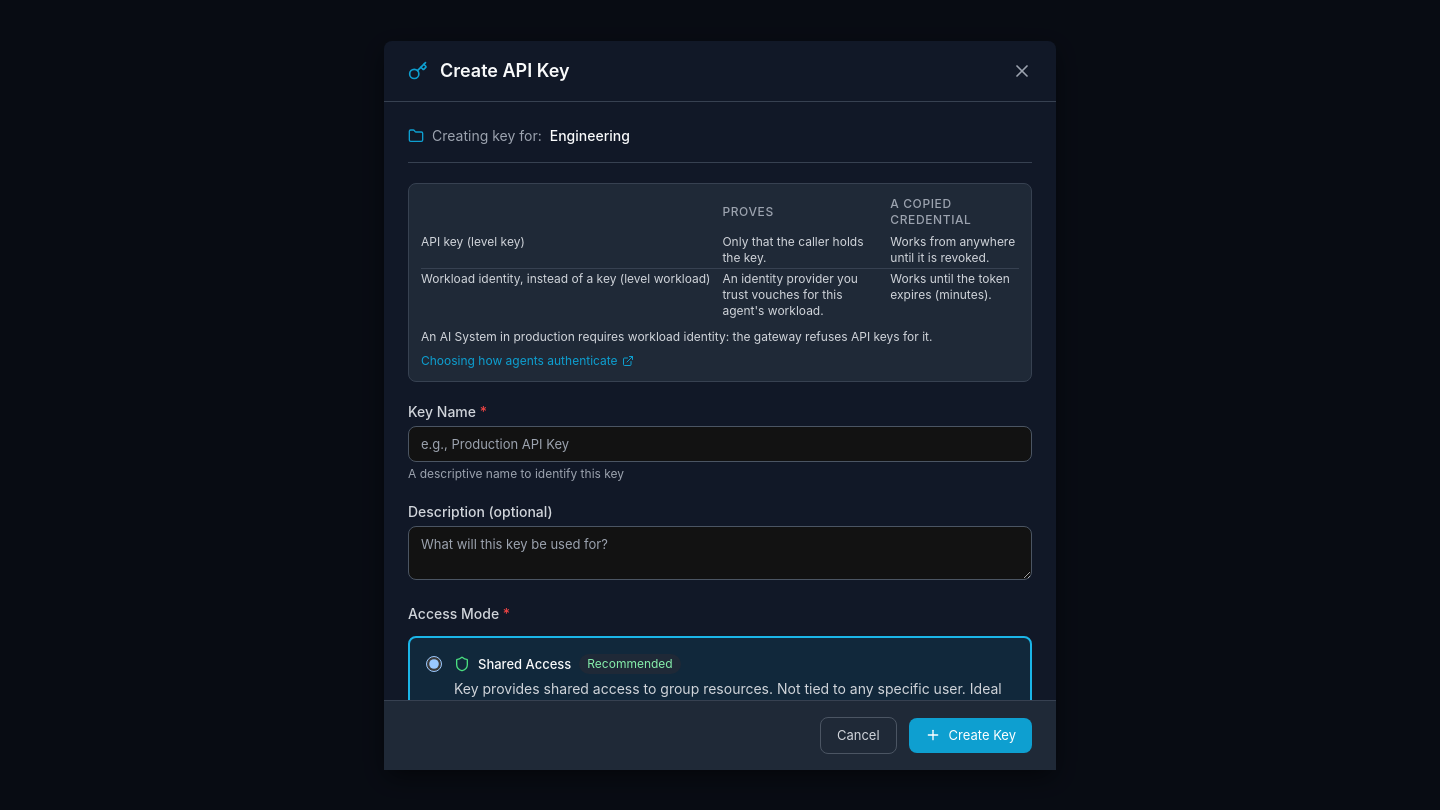
Test case: CreateGroupKeyModal › a refused create shows why and keeps the modal open
Type "k" into the field with placeholder "e.g., Production API Key" at (720, 444), box [408,426,1032,462]
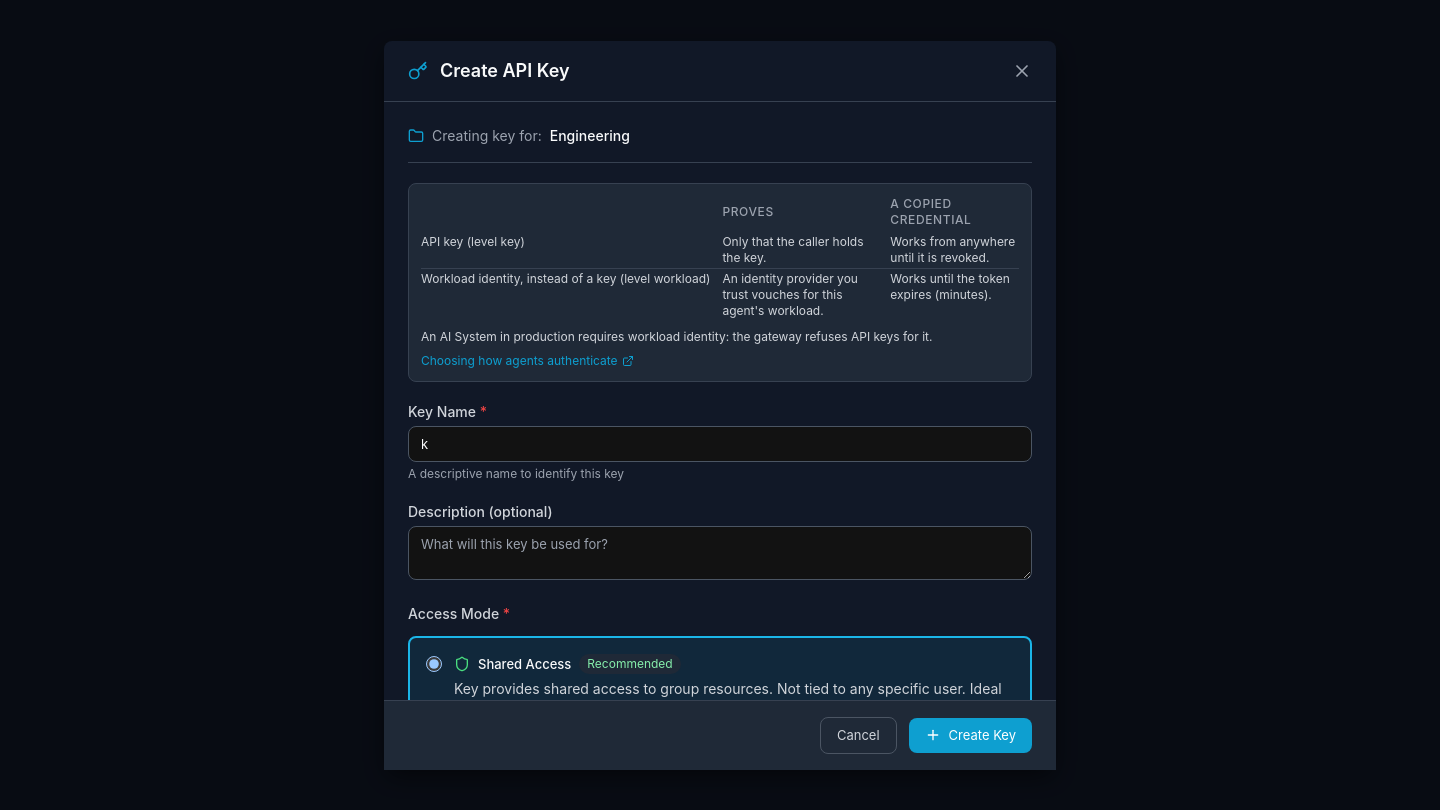
Click the button "Create Key" at (970, 735), box [909,718,1032,752]
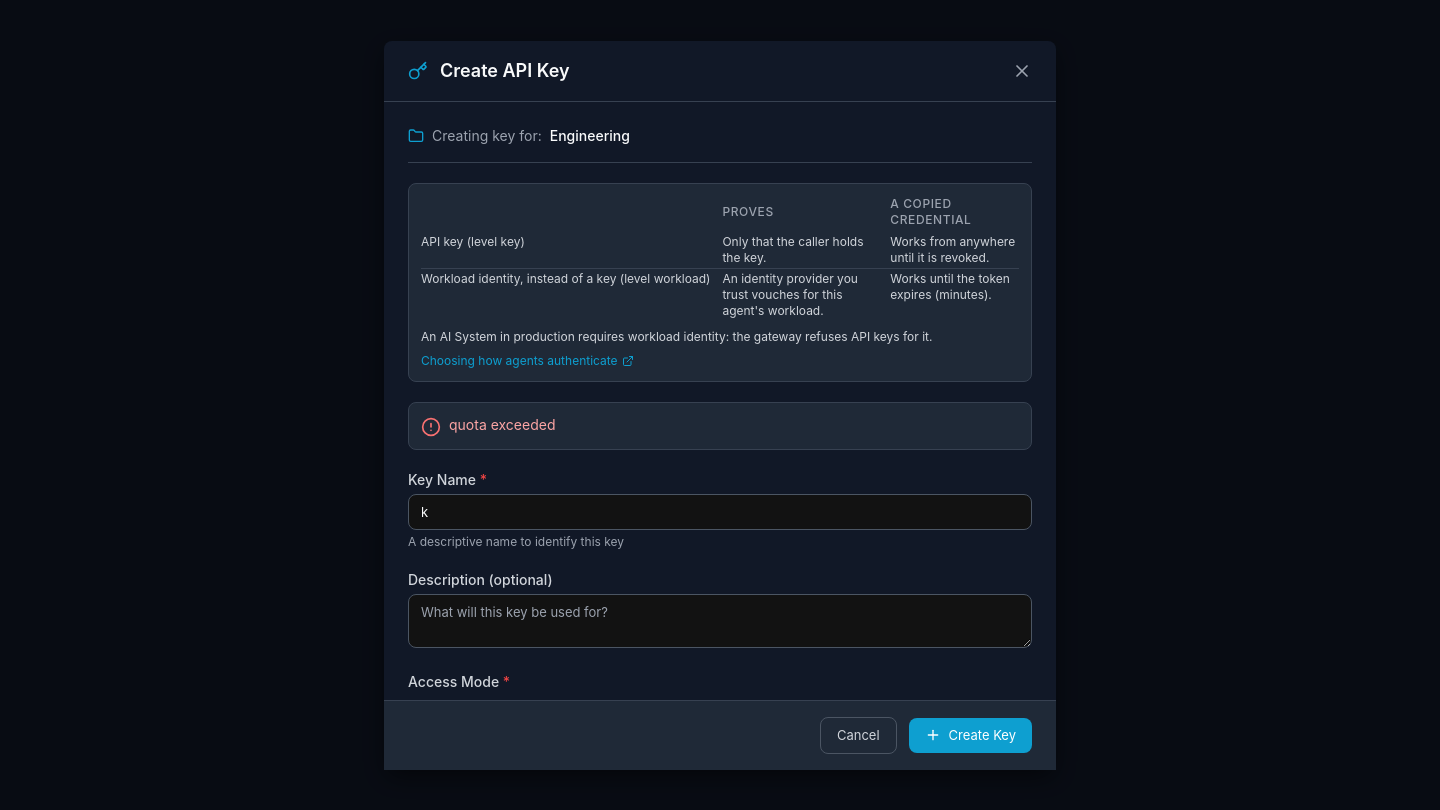
Now the text "quota exceeded" is shown, box [449,416,556,432]
